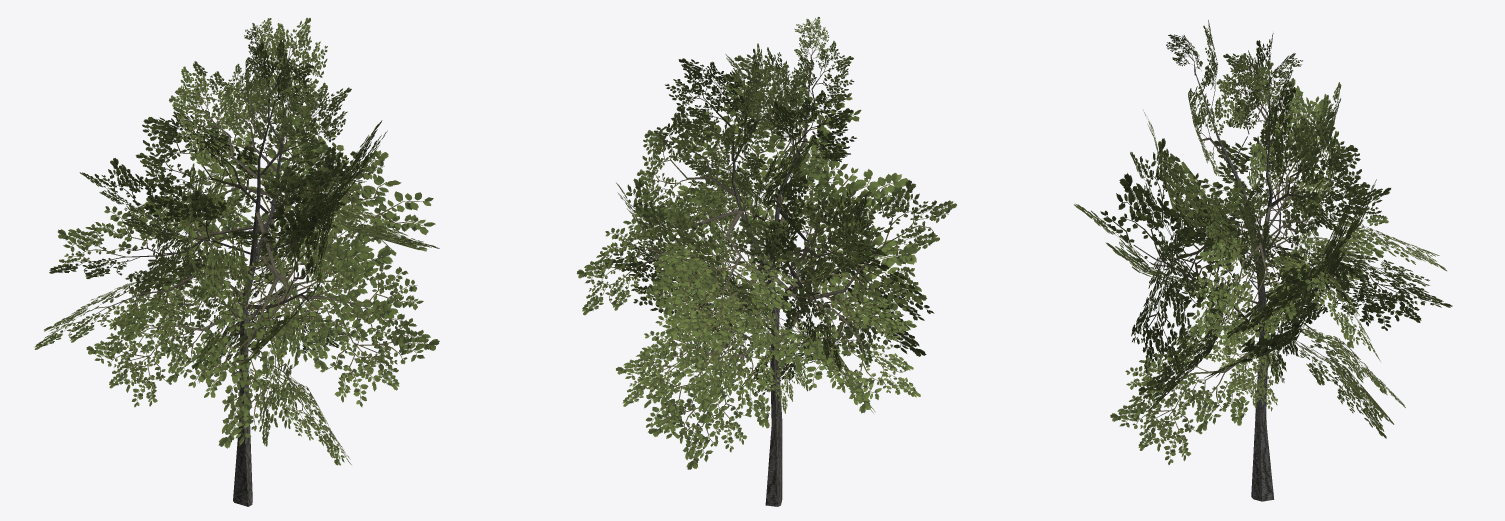
File: tree_3.fbx
The picture shows the model from 3 angles, left to right: view 1: azimuth 30°, elevation 25°; view 2: azimuth 150°, elevation 25°; view 3: azimuth 270°, elevation 25°; orthographic projection. The views are drawn at different scales.
Parts seen in each view (by area): view 1: Tree-01-3_2; view 2: Tree-01-3_2; view 3: Tree-01-3_2.
Part boxes in pixels (<box>): Tree-01-3_2: <box>34,17,439,506</box>; Tree-01-3_2: <box>577,16,956,506</box>; Tree-01-3_2: <box>1074,20,1452,501</box>.
Size of the model in its own units: 727 by 751 by 621.
6 materials, 6 textured.
